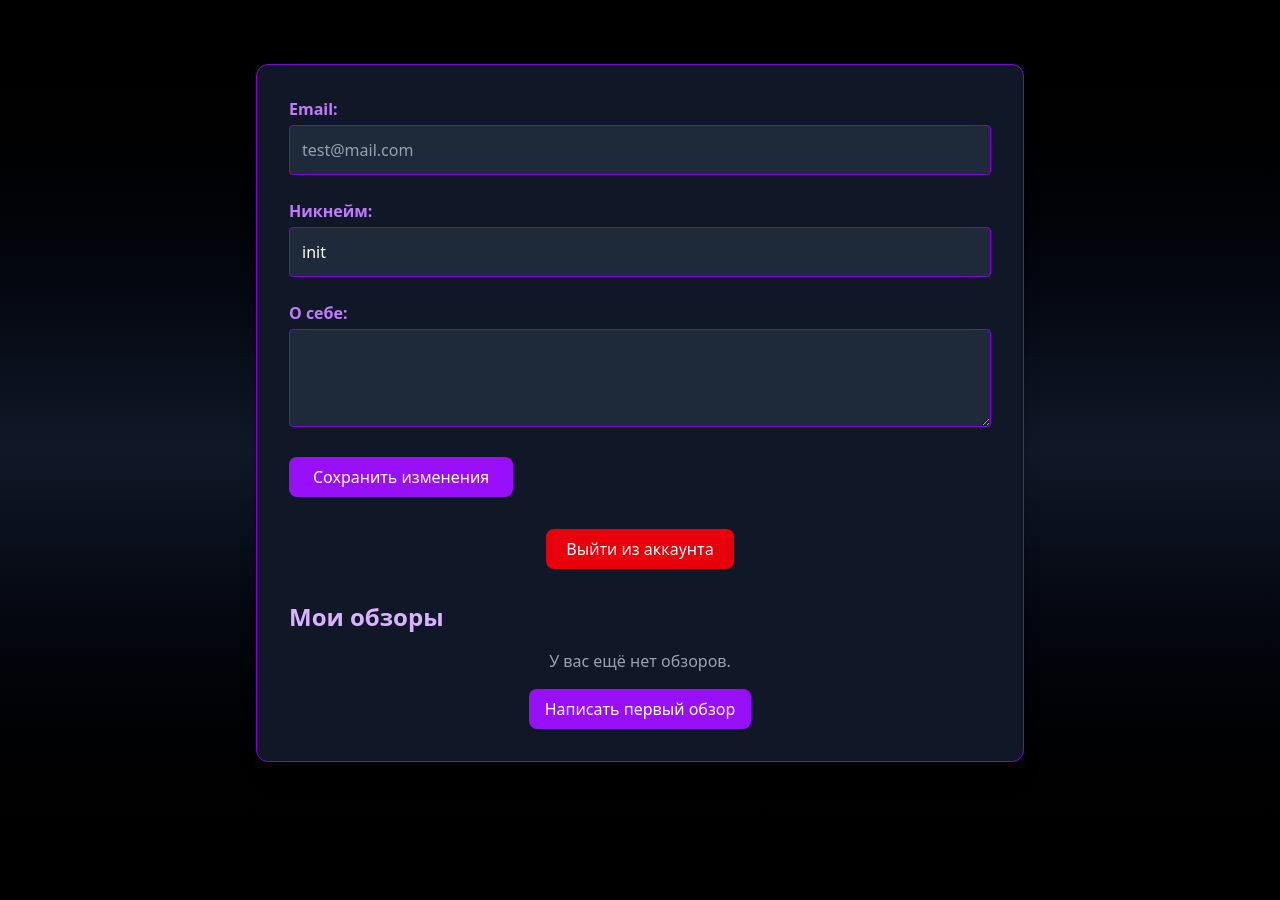
Test: Profile › обновляет профиль при сохранении
Replace the text in the field labelled "Никнейм:" with "обновлённый" at (640, 252), box [289,227,991,277]
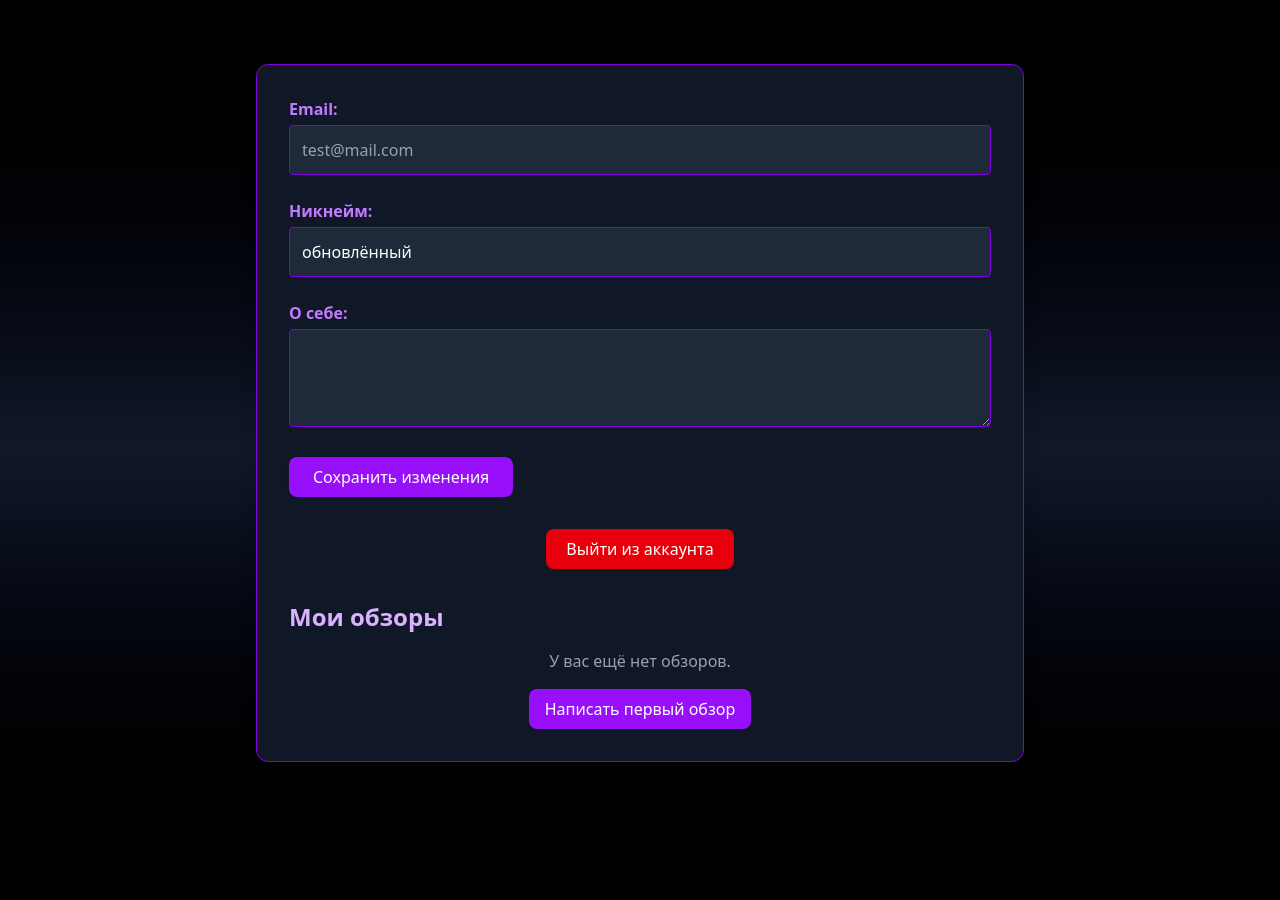
Click the button "Сохранить изменения".
click(401, 477)  # box [289,457,513,497]
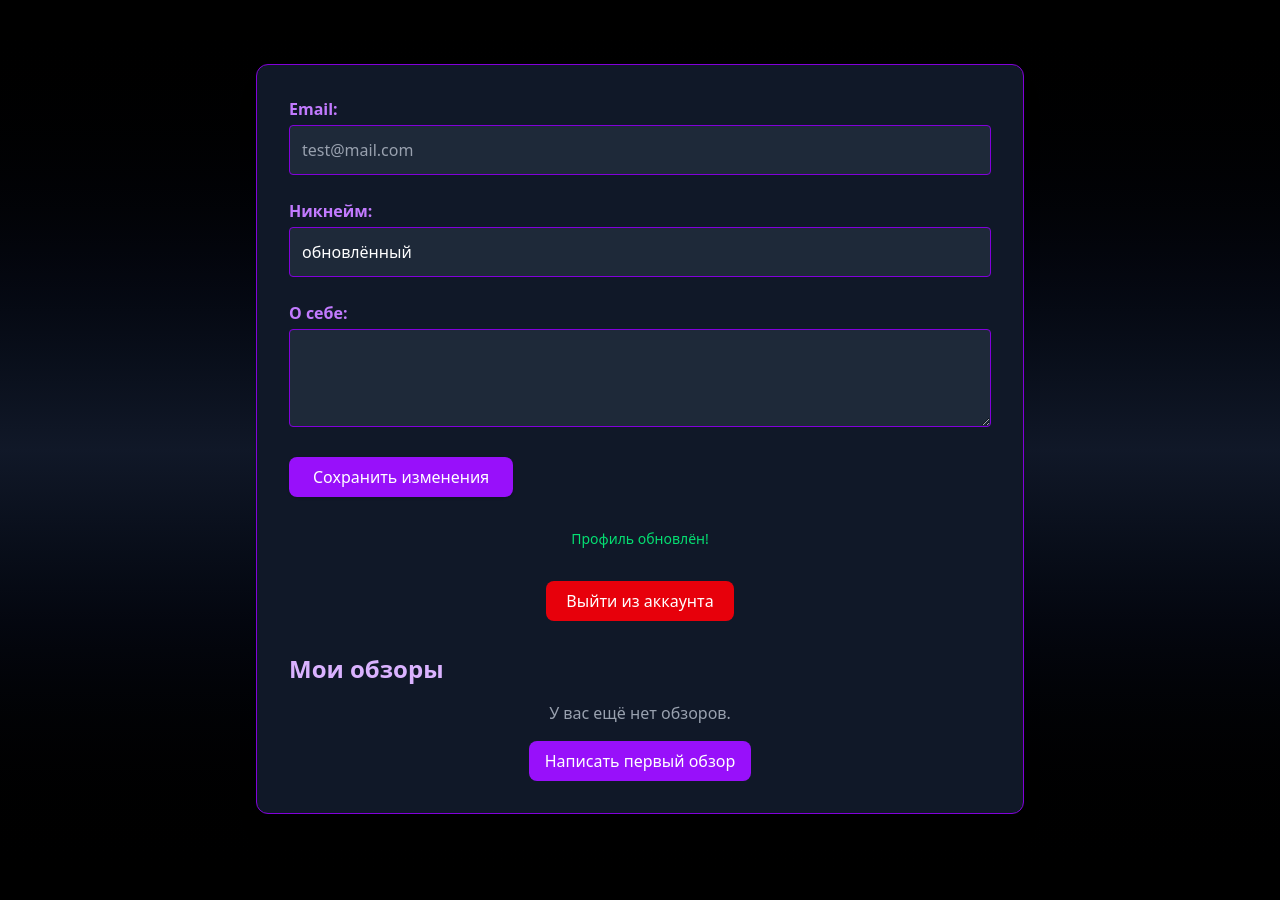
Now the text "Профиль обновлён!" is shown, box [571,529,709,548]
